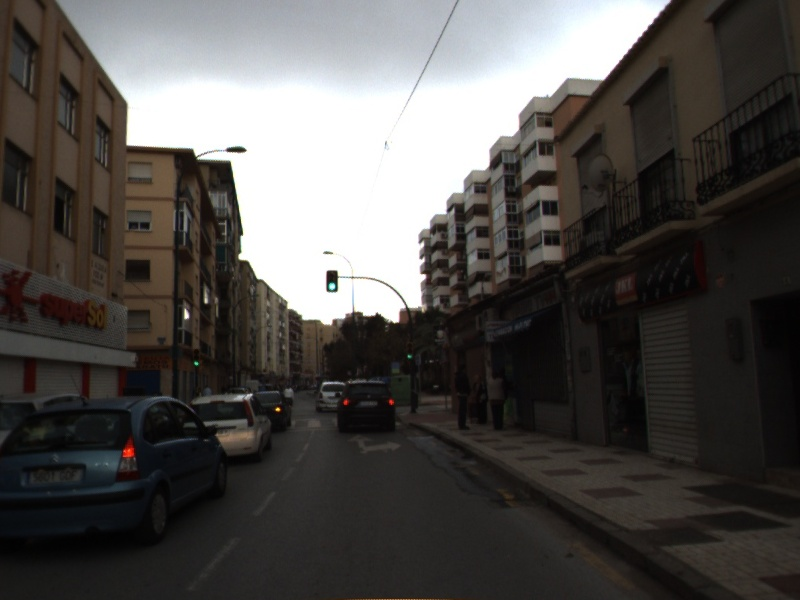STRAIGHT_RIGHT: (345, 432, 404, 456)
